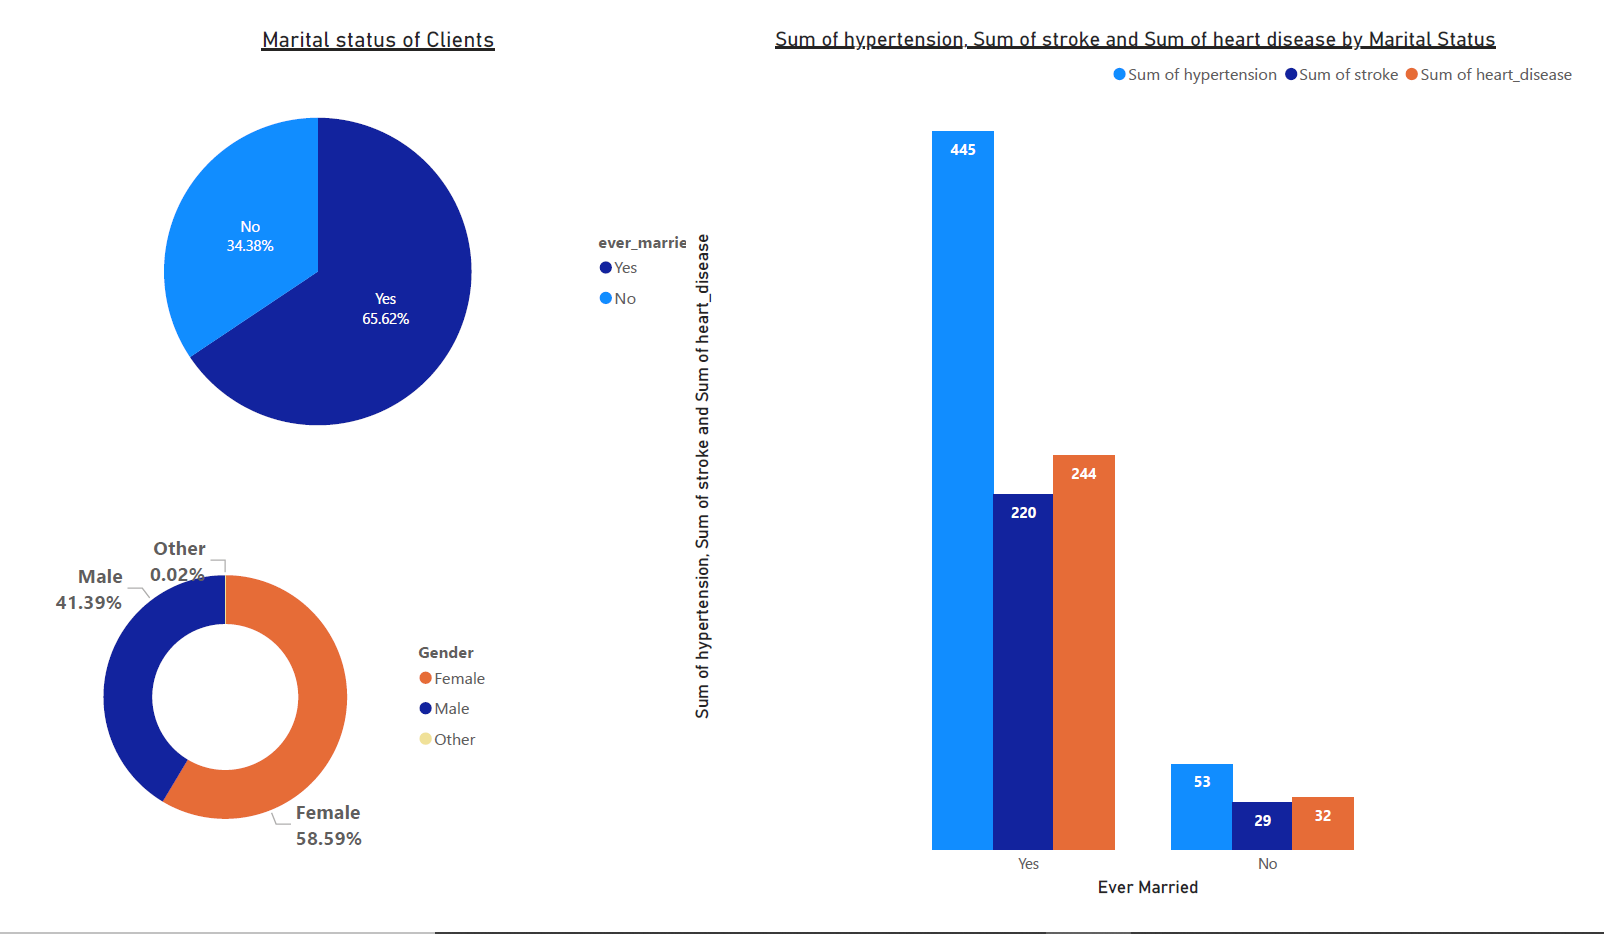

This screenshot's page, from the dashboard's own definition file:
{"tool":"powerbi","page":{"name":"Page 3","canvas":[1280,720],"ordinal":2},"visuals":[{"type":"pieChart","title":"Marital status of Clients","fields":{"Category":["healthcare-dataset-stroke-data.ever_married"],"Y":["CountNonNull(healthcare-dataset-stroke-data.ever_married)"]},"box":[3.8,0,570.1,383.2],"z":0},{"type":"clusteredColumnChart","title":"Sum of hypertension, Sum of stroke and Sum of heart disease by Marital Status","fields":{"Category":["healthcare-dataset-stroke-data.ever_married"],"Y":["Sum(healthcare-dataset-stroke-data.hypertension)","Sum(healthcare-dataset-stroke-data.stroke)","Sum(healthcare-dataset-stroke-data.heart_disease)"]},"box":[541.8,0,738.2,719.3],"z":1000},{"type":"donutChart","title":"Number of Gender","fields":{"Category":["healthcare-dataset-stroke-data.gender"],"Y":["CountNonNull(healthcare-dataset-stroke-data.gender)"]},"box":[0,383.2,392.7,336],"z":3000}]}

Visuals, with their boxes on the page's 1280x720 design canvas (x1, y1, x2, y2). These are canvas units, not pixel positions in the 1604x934 screenshot, which may show the page scaled, cropped or inside an application window:
"Marital status of Clients" pieChart: x1=4 y1=0 x2=574 y2=383
"Sum of hypertension, Sum of stroke and Sum of heart disease by Marital Status" clusteredColumnChart: x1=542 y1=0 x2=1280 y2=719
"Number of Gender" donutChart: x1=0 y1=383 x2=393 y2=719
